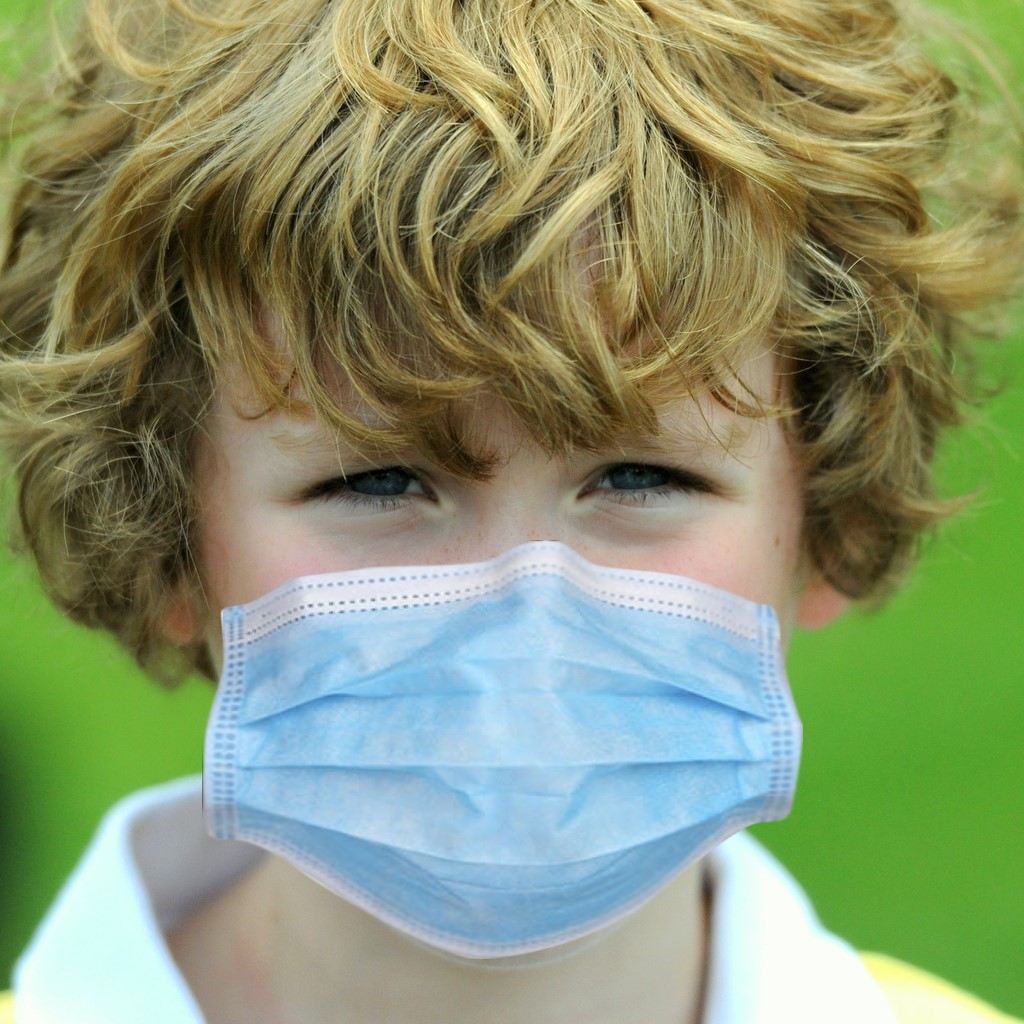con_mascara: (165, 139, 822, 910)
